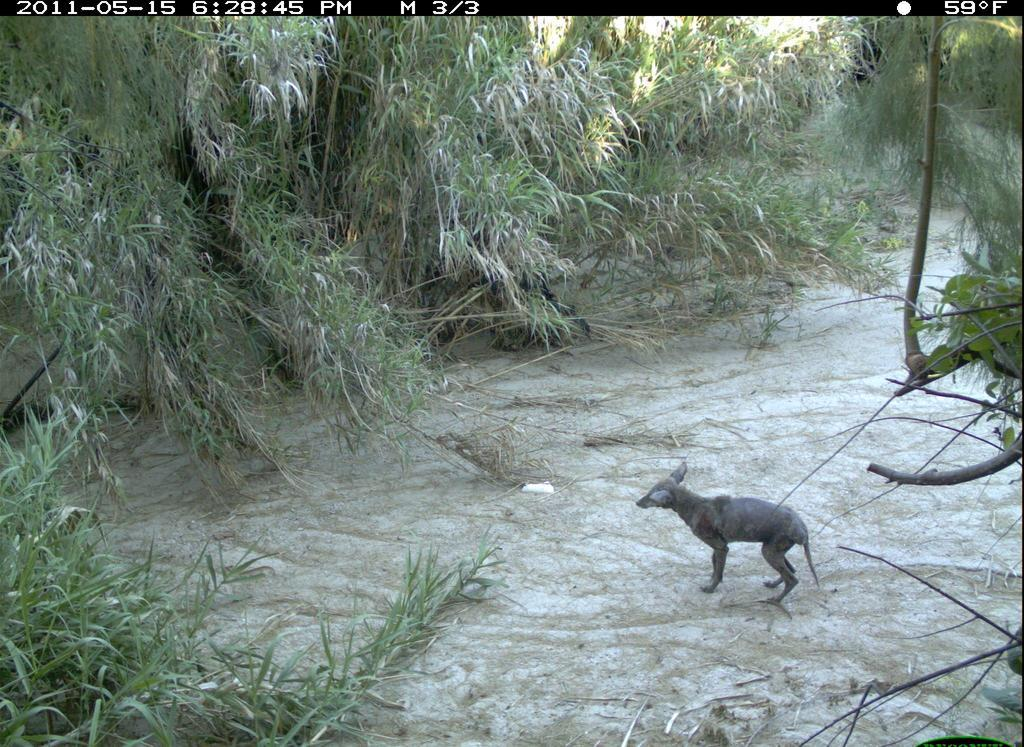coyote: (633, 460, 827, 611)
